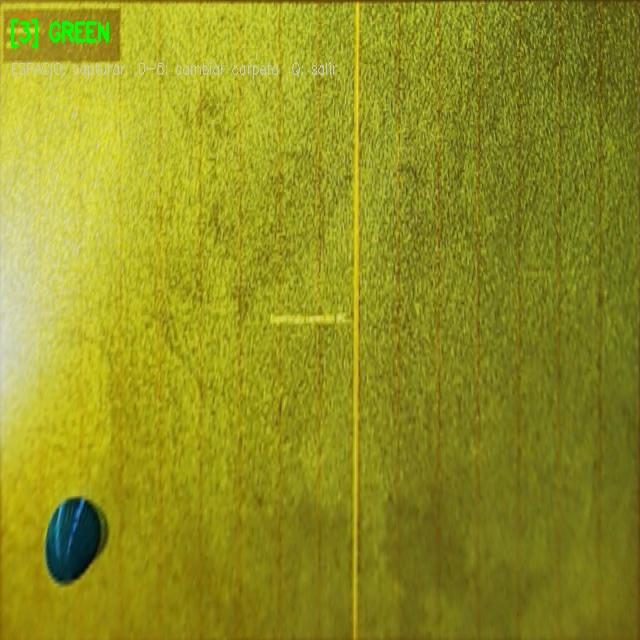green: (42, 502, 102, 581)
